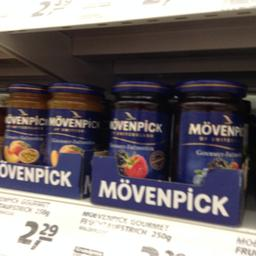jam: (173, 79, 248, 184), (108, 79, 170, 178), (42, 82, 100, 164), (4, 84, 44, 166)
